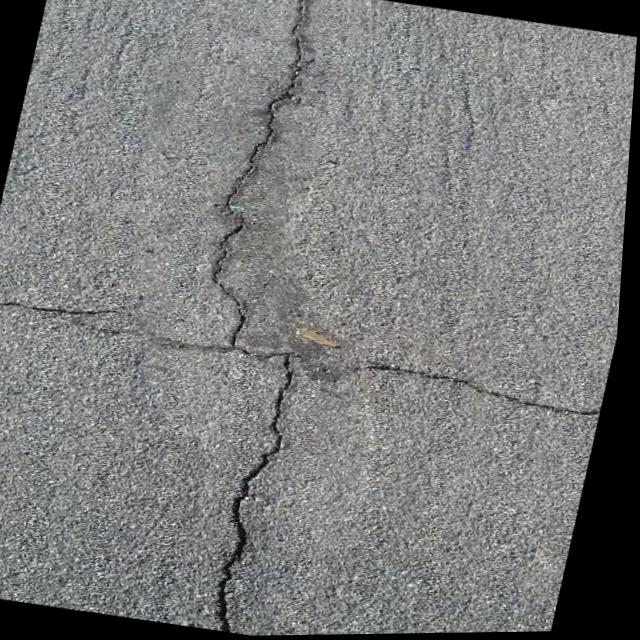Crack: (115, 0, 420, 638), (333, 338, 614, 433), (0, 269, 154, 356)
